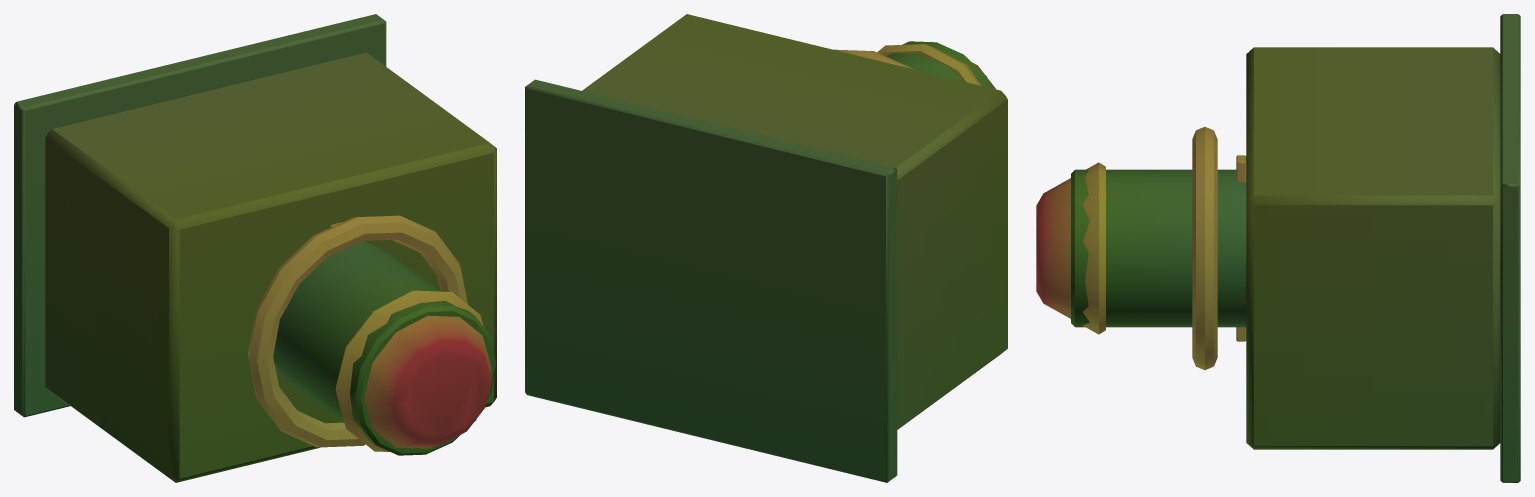
Rendered from RCLModule_assault_walker_plasma_cinder_ablative_sponsons.fbx.
The picture shows the model from 3 angles, left to right: view 1: azimuth 30°, elevation 25°; view 2: azimuth 150°, elevation 25°; view 3: azimuth 270°, elevation 25°; orthographic projection. The views are drawn at different scales.
Parts seen in each view (by area): view 1: RCLModule_assault_walker_plasma_cinder_ablative_sponsons_Bat (×3); view 2: RCLModule_assault_walker_plasma_cinder_ablative_sponsons_Bat (×3); view 3: RCLModule_assault_walker_plasma_cinder_ablative_sponsons_Bat (×3).
Part boxes in pixels (bbox=[...]): RCLModule_assault_walker_plasma_cinder_ablative_sponsons_Bat (×3): bbox=[14, 14, 496, 482]; RCLModule_assault_walker_plasma_cinder_ablative_sponsons_Bat (×3): bbox=[525, 14, 1007, 482]; RCLModule_assault_walker_plasma_cinder_ablative_sponsons_Bat (×3): bbox=[1036, 14, 1520, 482].
Bounding box in the file's own units: 32 × 26 × 38.15.
